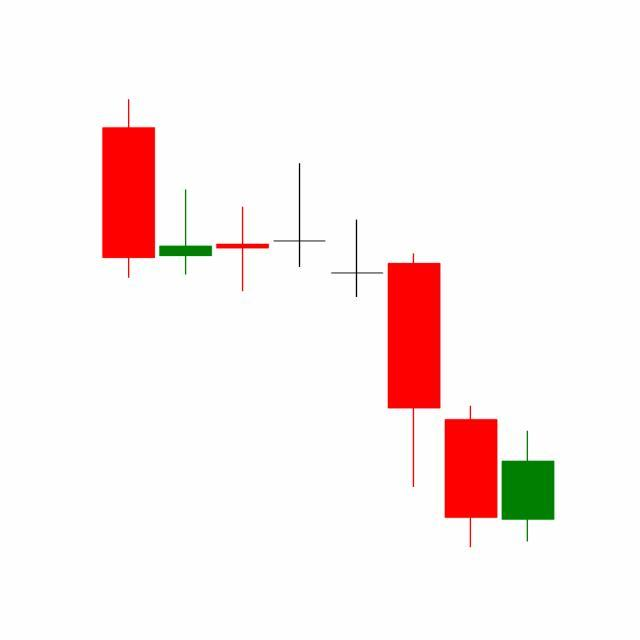Three Outside Up-Down: (328, 216, 500, 549)
